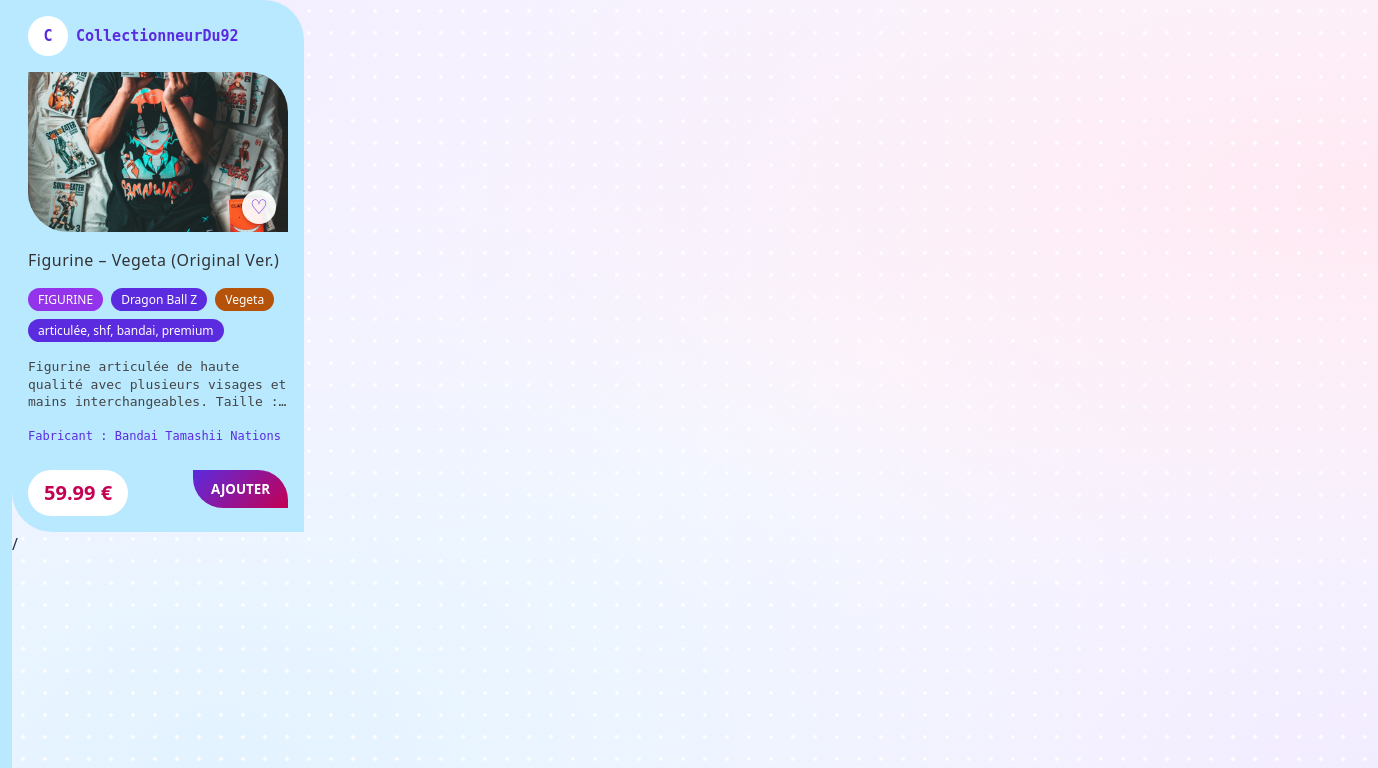
it: ProductCard › ajoute aux favoris et au panier
Click the button named "Ajouter aux favoris" at (259, 207), box [242,190,276,224]
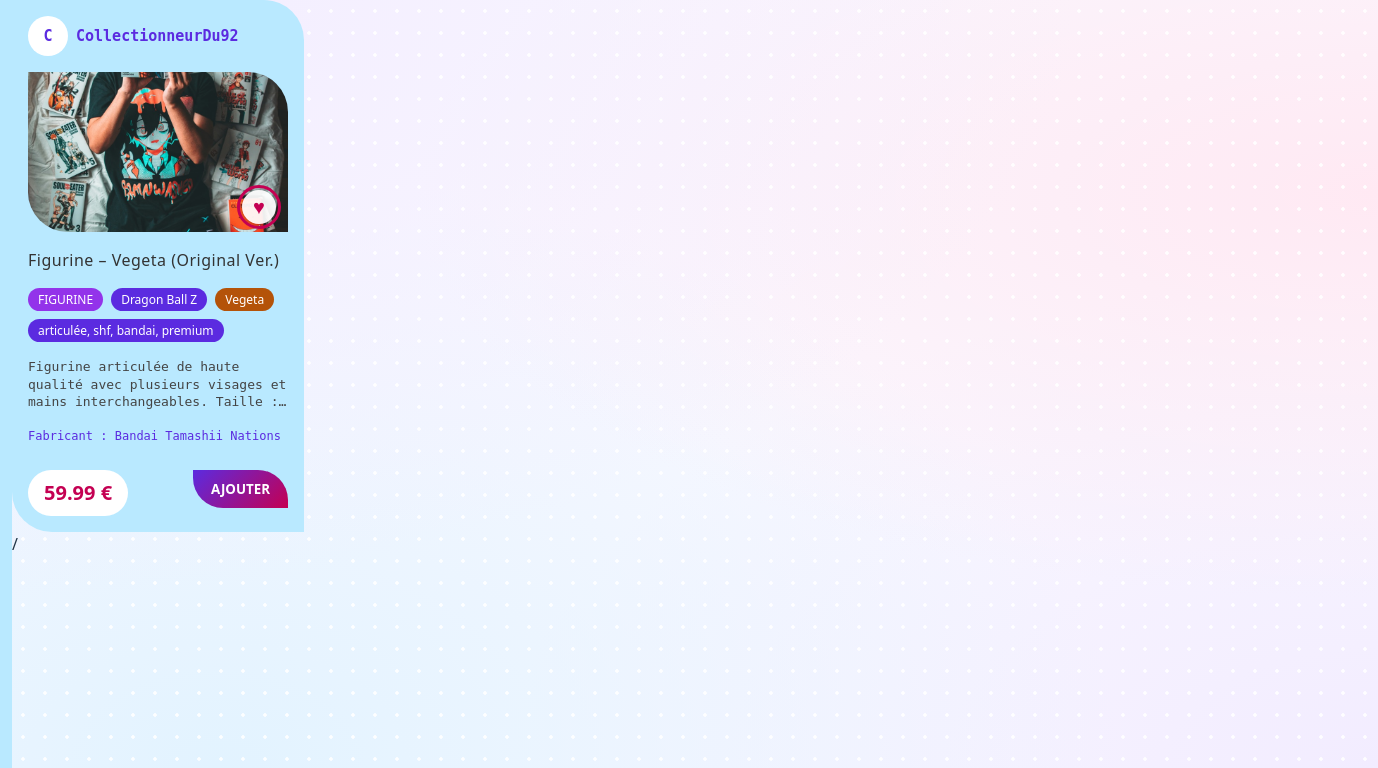
expect the button named "Retirer des favoris" is pressed: met, box [242,190,276,224]
// Pièce unique : une fois ajoutée, le bouton indique qu'elle est déjà dans le panier.
Click the button "AJOUTER" at (241, 489), box [193,470,288,508]
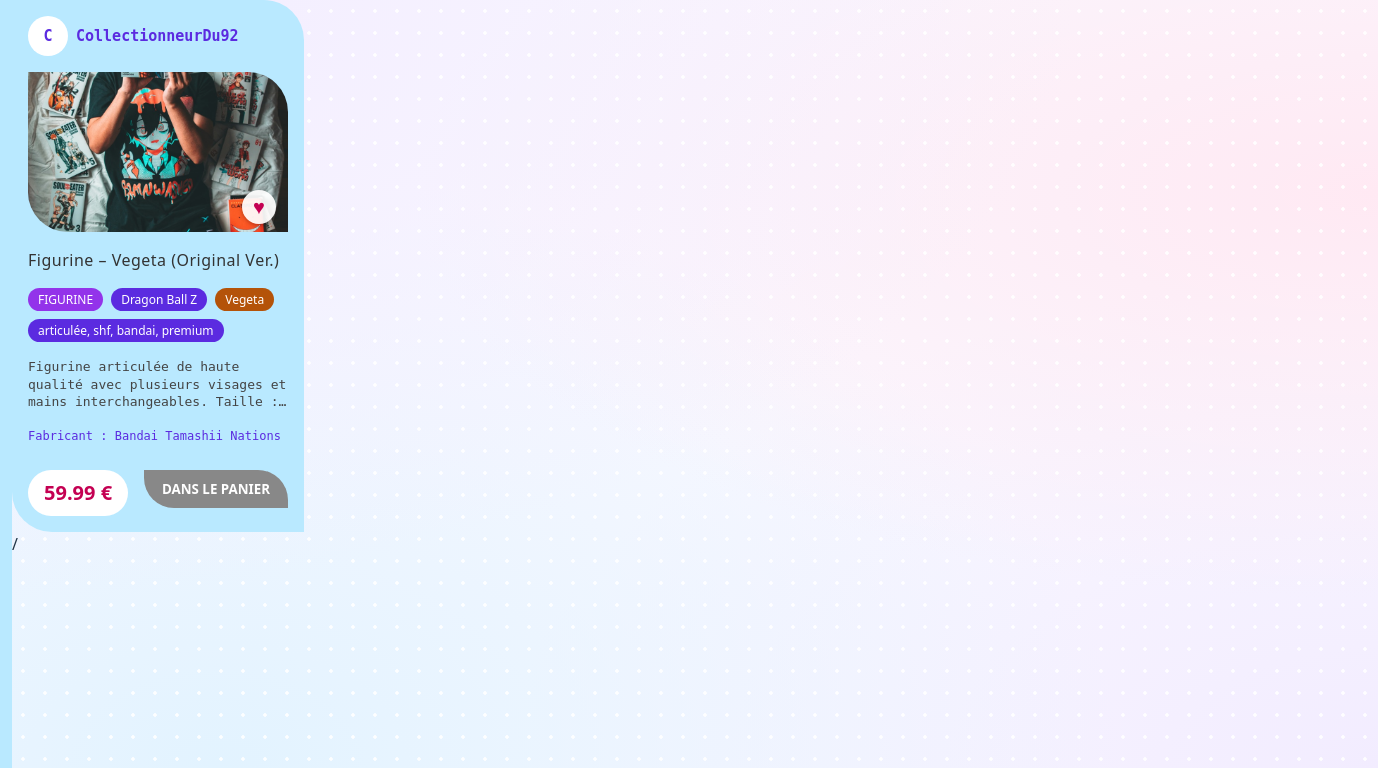
expect the button "DANS LE PANIER" is disabled: met, box [144,470,288,508]
